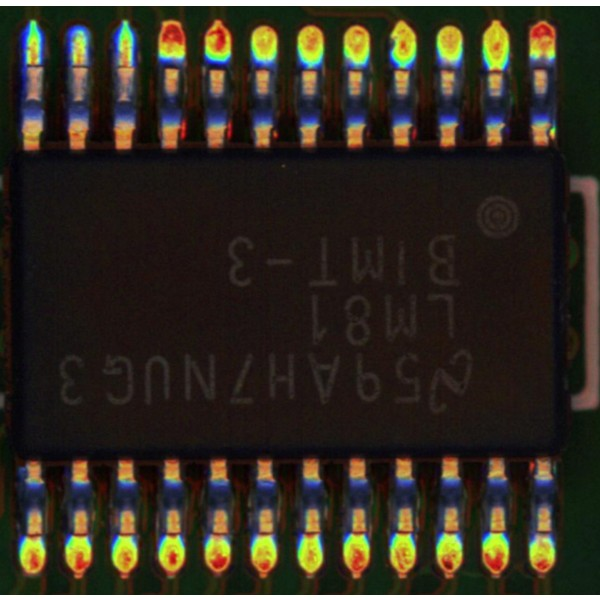Bad_podu: (72, 51, 87, 79), (117, 51, 132, 79), (28, 53, 40, 76)
